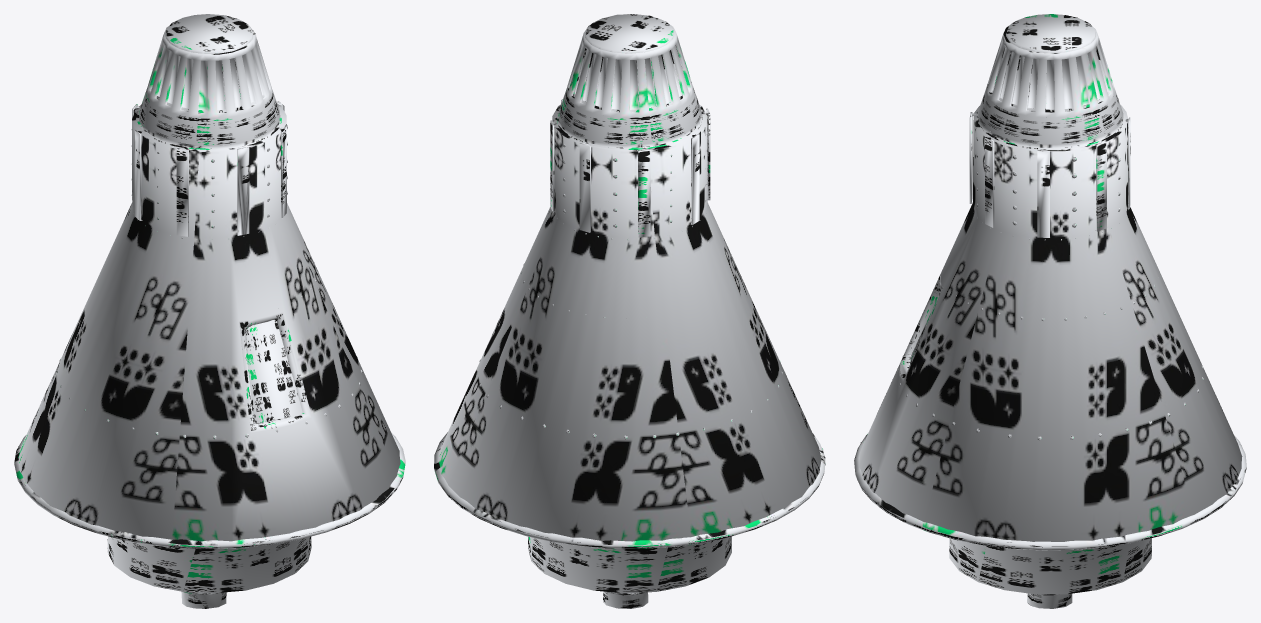
The model's file is atlas-9-faith-7.glb.
The picture shows the model from 3 angles, left to right: view 1: azimuth 30°, elevation 25°; view 2: azimuth 150°, elevation 25°; view 3: azimuth 270°, elevation 25°; orthographic projection.
Parts seen in each view (by area): view 1: A; view 2: A; view 3: A.
Part boxes in pixels (<box>): A: <box>14,14,405,608</box>; A: <box>434,14,825,608</box>; A: <box>854,14,1246,608</box>.
Size of the model in its own units: 1.3 by 2 by 1.3.
Materials: 181 (181 with a texture image).
